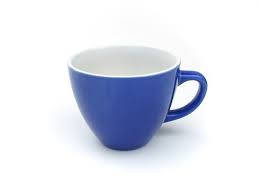cup: (63, 42, 209, 154)
